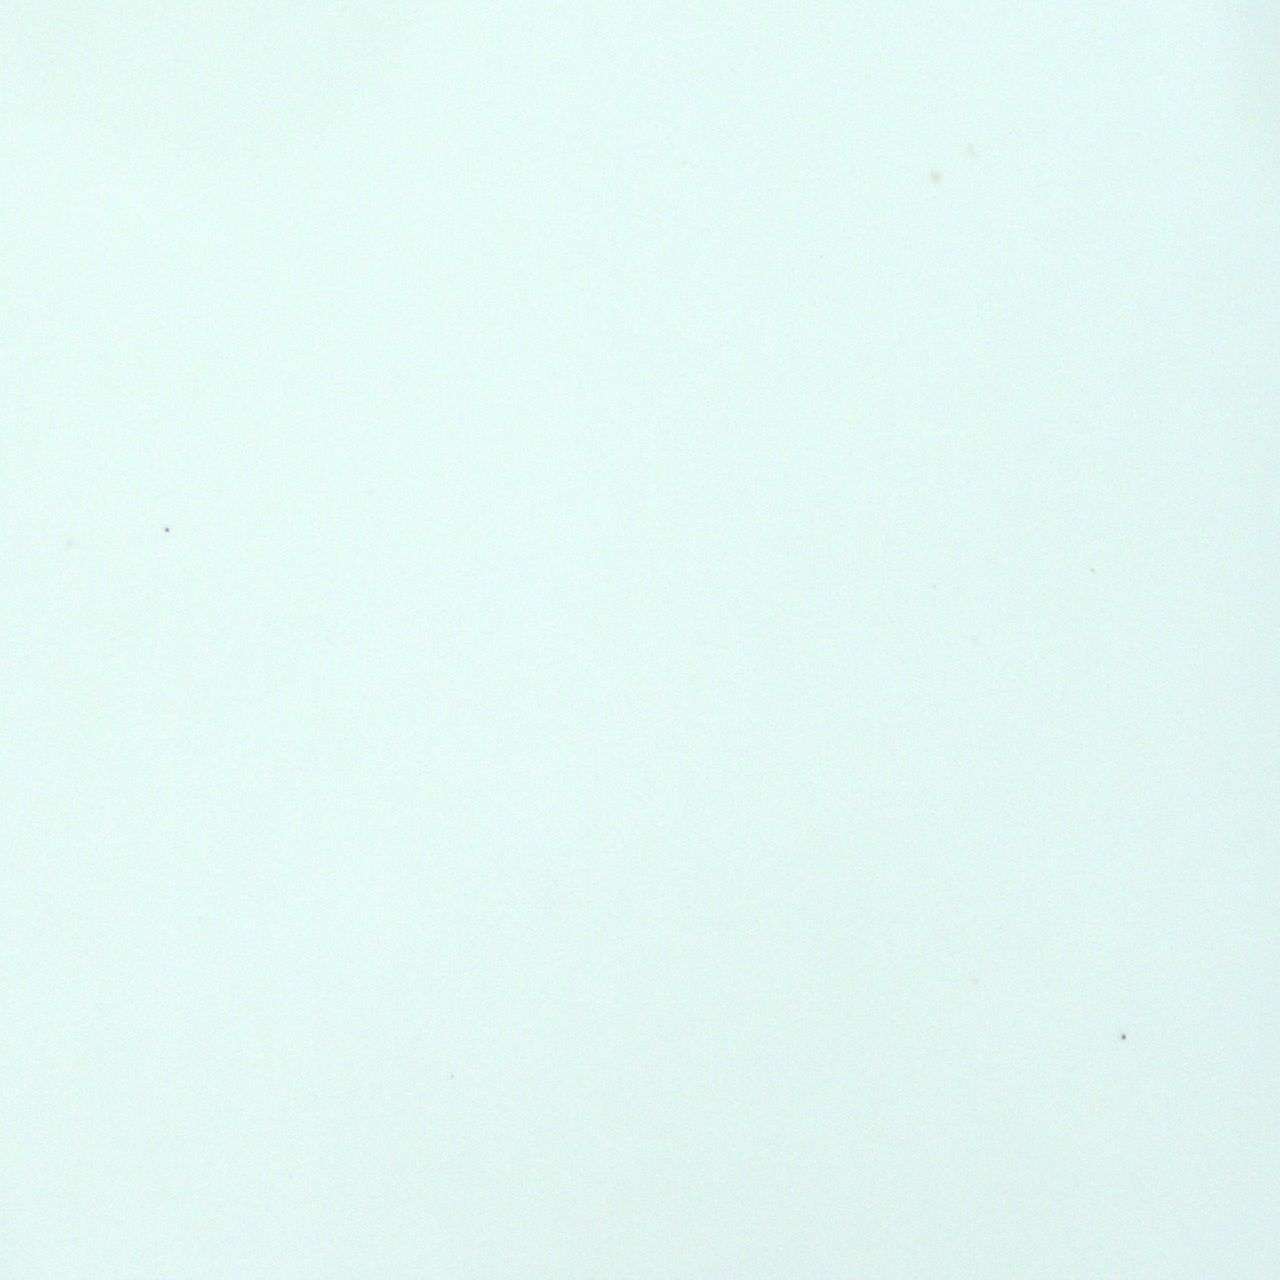dust: (1121, 1035, 1128, 1042), (164, 526, 170, 535)
